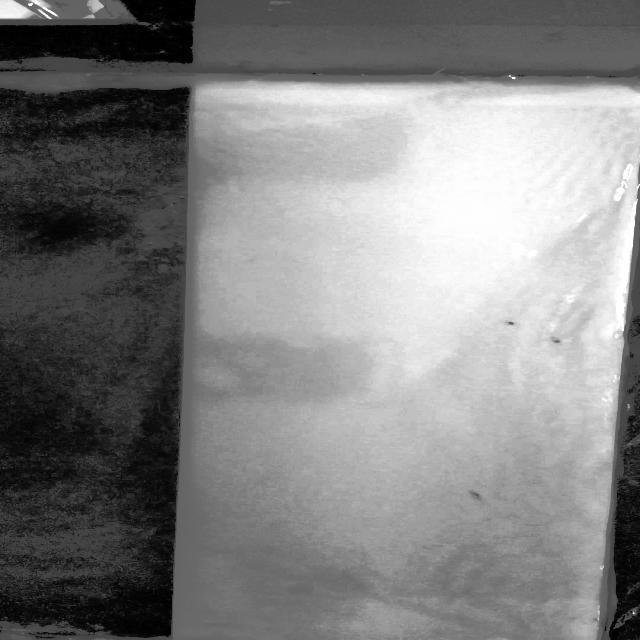shrimp: (545, 332, 577, 351), (468, 488, 498, 504), (494, 316, 529, 329)
